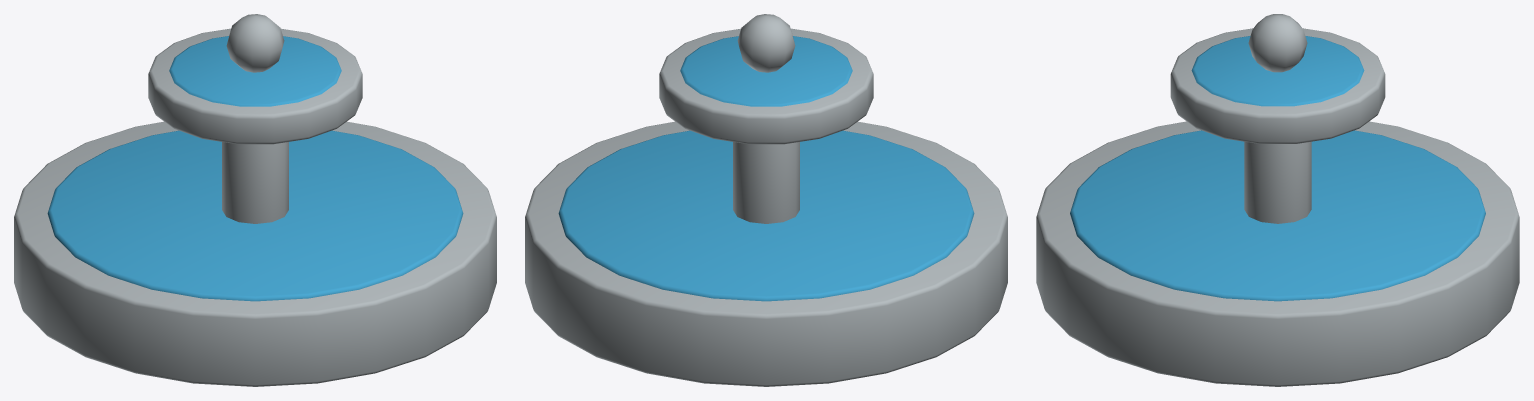
Rendered from prop_fountain.glb.
3 views of the same model, side by side, from view 1: azimuth 30°, elevation 25°; view 2: azimuth 150°, elevation 25°; view 3: azimuth 270°, elevation 25° (orthographic).
Parts seen in each view (by area): view 1: prop_fountain, Glass_prop_fountain; view 2: prop_fountain, Glass_prop_fountain; view 3: prop_fountain, Glass_prop_fountain.
Part boxes in pixels (x1,y1,x2,y2): prop_fountain: (14,14,496,386); Glass_prop_fountain: (47,36,463,301); prop_fountain: (525,14,1007,386); Glass_prop_fountain: (558,36,974,301); prop_fountain: (1036,14,1519,386); Glass_prop_fountain: (1070,36,1485,301).
Bounding box in the file's own units: 3.6 × 2.22 × 3.6.
